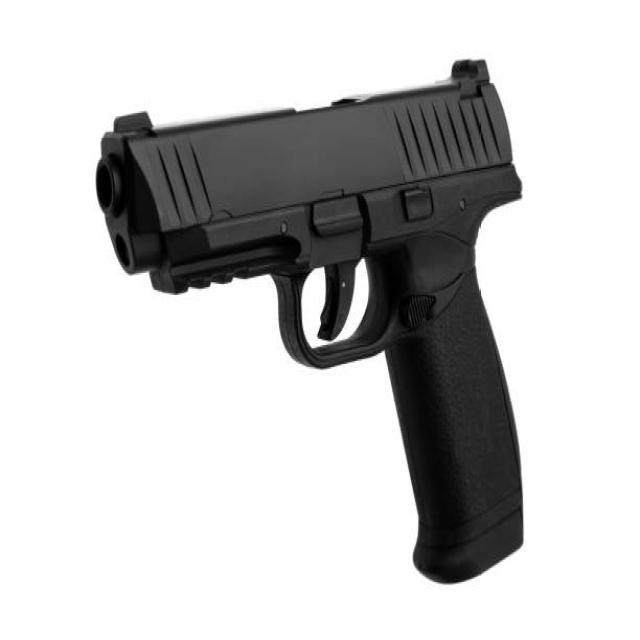pistol: (83, 46, 532, 592)
